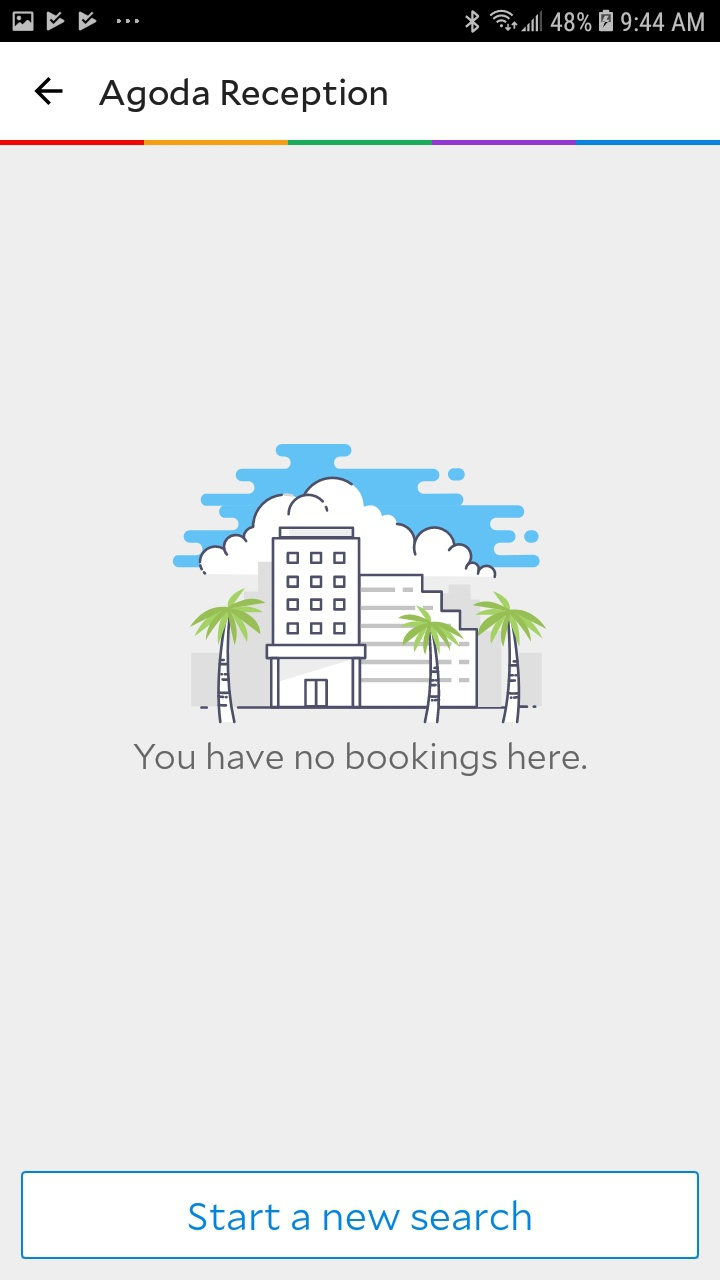Icon: (35, 77, 64, 106)
Image: (173, 444, 549, 724)
Text: (134, 741, 587, 777), (99, 78, 388, 113)
TextButton: (21, 1170, 700, 1260)
UpperTaskBar: (1, 1, 720, 43)
